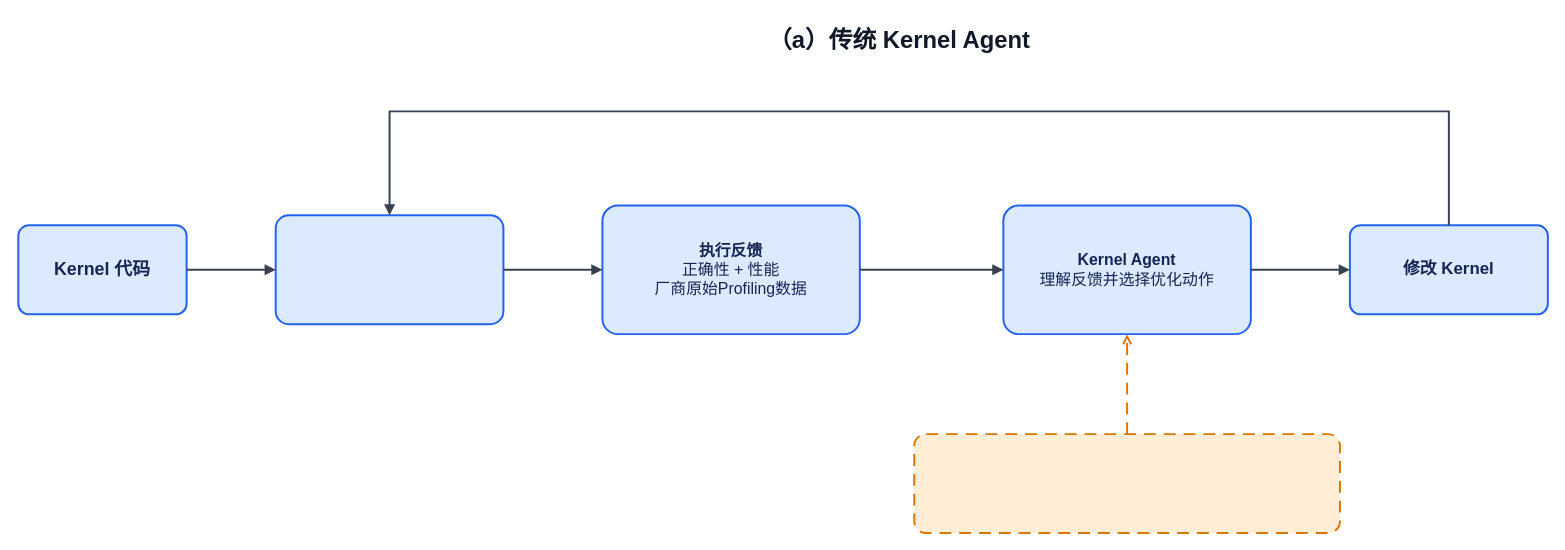
This 1565x550 diagram has some shape labels left out. The box of each missing label's shape, as (x1, y1, x2, y2) in pixels:
编译、运行与评测: (274, 214, 504, 325)
隐式推理 Profiling 信息 → 语义瓶颈 → 优化动作: (913, 433, 1340, 534)
